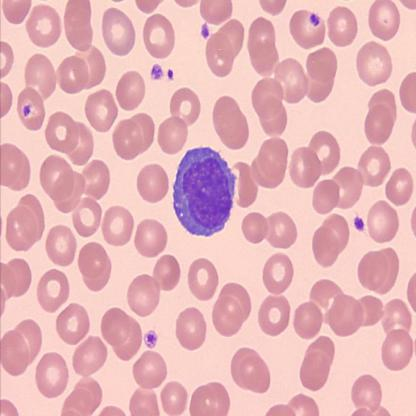Atypical lymphocyte: (174, 146, 236, 236)
